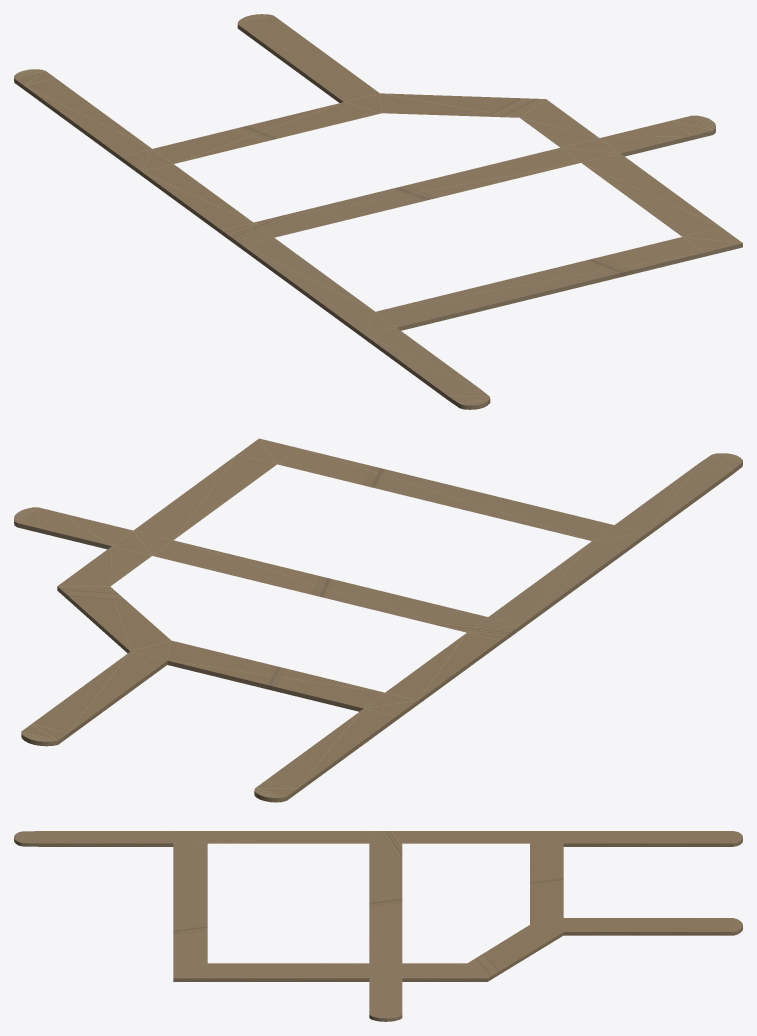
Rendered from objects_un_t06road01.gltf.
3 views of the same model, one above another, from view 1: azimuth 30°, elevation 25°; view 2: azimuth 150°, elevation 25°; view 3: azimuth 270°, elevation 25° (orthographic). The views are drawn at different scales.
Parts seen in each view (by area): view 1: objects_un_t06road01; view 2: objects_un_t06road01; view 3: objects_un_t06road01.
Part boxes in pixels (x1,y1,x2,y2): objects_un_t06road01: [14, 14, 742, 409]; objects_un_t06road01: [14, 438, 742, 802]; objects_un_t06road01: [14, 831, 742, 1021].
Size of what is drawn, in the model's own units: 115 by 1 by 190.
1 material, 1 textured.
